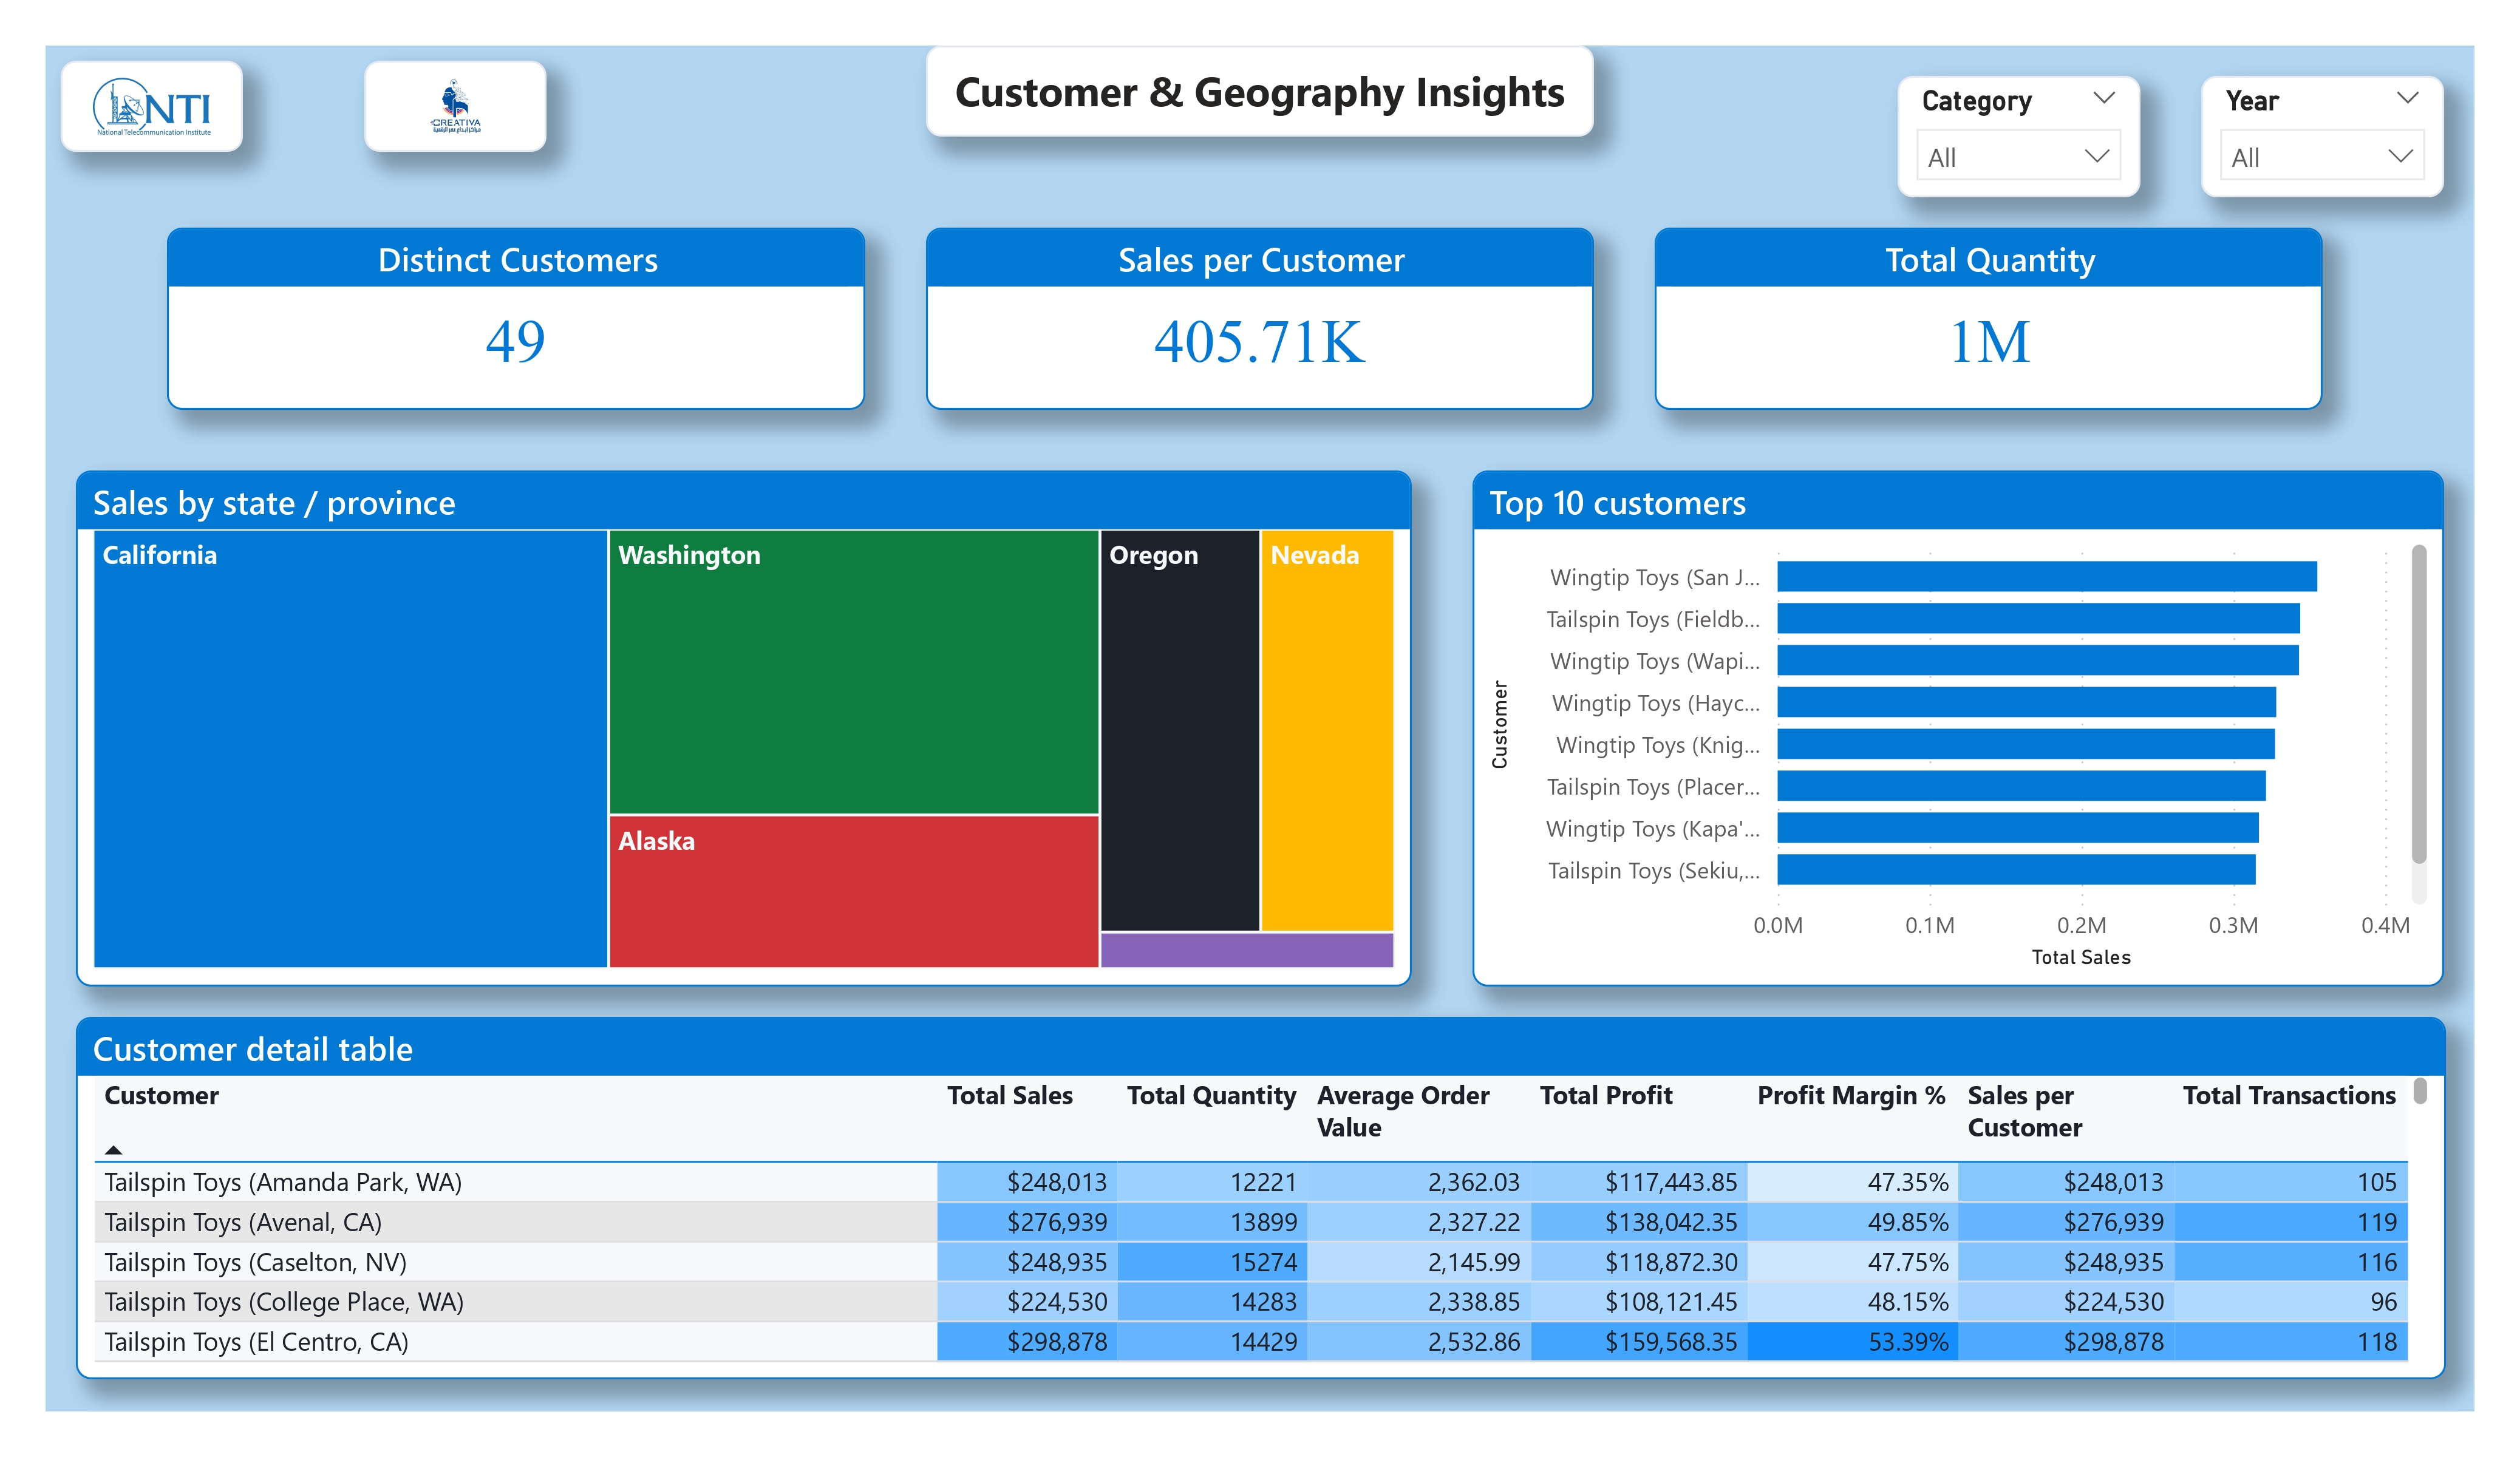

The dashboard page shown, as its layout file describes it:
{"tool":"powerbi","page":{"name":"Customer & Geography Insights","canvas":[1280,720],"ordinal":1},"visuals":[{"type":"textbox","box":[464,0,352,48],"z":0},{"type":"image","box":[8,8,96,48],"z":1000},{"type":"image","box":[168,8,96,48],"z":2000},{"type":"slicer","fields":{"Values":["DimDate.Calendar Year","DimDate.Fiscal Year Label"]},"box":[1136,16,128,64],"z":3000},{"type":"slicer","title":"Category","fields":{"Values":["DimCustomer.Category"]},"box":[976,16,128,64],"z":4000},{"type":"card","title":"Distinct Customers","fields":{"Values":["Customer & Product Analysis.Distinct Customers"]},"box":[64,96,368,96],"z":5000},{"type":"card","title":"Sales per Customer","fields":{"Values":["Customer & Product Analysis.Sales per Customer"]},"box":[464,96,352,96],"z":6000},{"type":"card","title":"Total Quantity","fields":{"Values":["Core Sales & Profit.Total Quantity"]},"box":[848,96,352,96],"z":7000},{"type":"treemap","title":"Sales by state / province","fields":{"Group":["DimCity.State Province Hierarchy.State Province","DimCity.State Province Hierarchy.City"],"Values":["Customer & Product Analysis.Distinct Customers"]},"box":[16,224,704,272],"z":8000},{"type":"clusteredBarChart","title":"Top 10 customers","fields":{"Category":["DimCustomer.Customer"],"Y":["Core Sales & Profit.Total Sales"]},"box":[752,224,512,272],"z":9000},{"type":"tableEx","title":"Customer detail table","fields":{"Values":["DimCustomer.Customer","Core Sales & Profit.Total Sales","Core Sales & Profit.Total Quantity","Core Sales & Profit.Average Order Value","Core Sales & Profit.Total Profit","Core Sales & Profit.Profit Margin %","Customer & Product Analysis.Sales per Customer","Core Sales & Profit.Total Transactions"]},"box":[16,512,1249,191],"z":10000}]}

Visuals, with their boxes on the page's 1280x720 design canvas (x1, y1, x2, y2). These are canvas units, not pixel positions in the 2520x1457 screenshot, which may show the page scaled, cropped or inside an application window:
textbox: crop(464, 0, 816, 48)
image: crop(8, 8, 104, 56)
image: crop(168, 8, 264, 56)
slicer - DimDate.Calendar Year x DimDate.Fiscal Year Label: crop(1136, 16, 1264, 80)
"Category" slicer: crop(976, 16, 1104, 80)
"Distinct Customers" card: crop(64, 96, 432, 192)
"Sales per Customer" card: crop(464, 96, 816, 192)
"Total Quantity" card: crop(848, 96, 1200, 192)
"Sales by state / province" treemap: crop(16, 224, 720, 496)
"Top 10 customers" clusteredBarChart: crop(752, 224, 1264, 496)
"Customer detail table" tableEx: crop(16, 512, 1265, 703)
